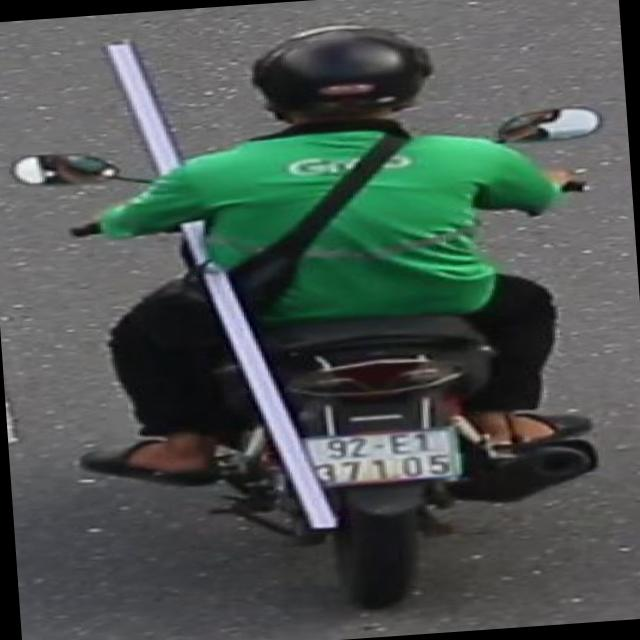LP: (307, 422, 468, 494)
helmet: (241, 13, 438, 148)
